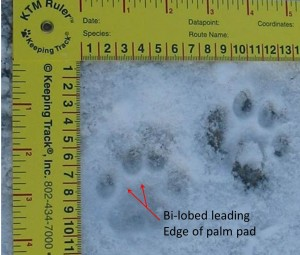cat: (205, 86, 295, 195), (93, 147, 190, 239)
